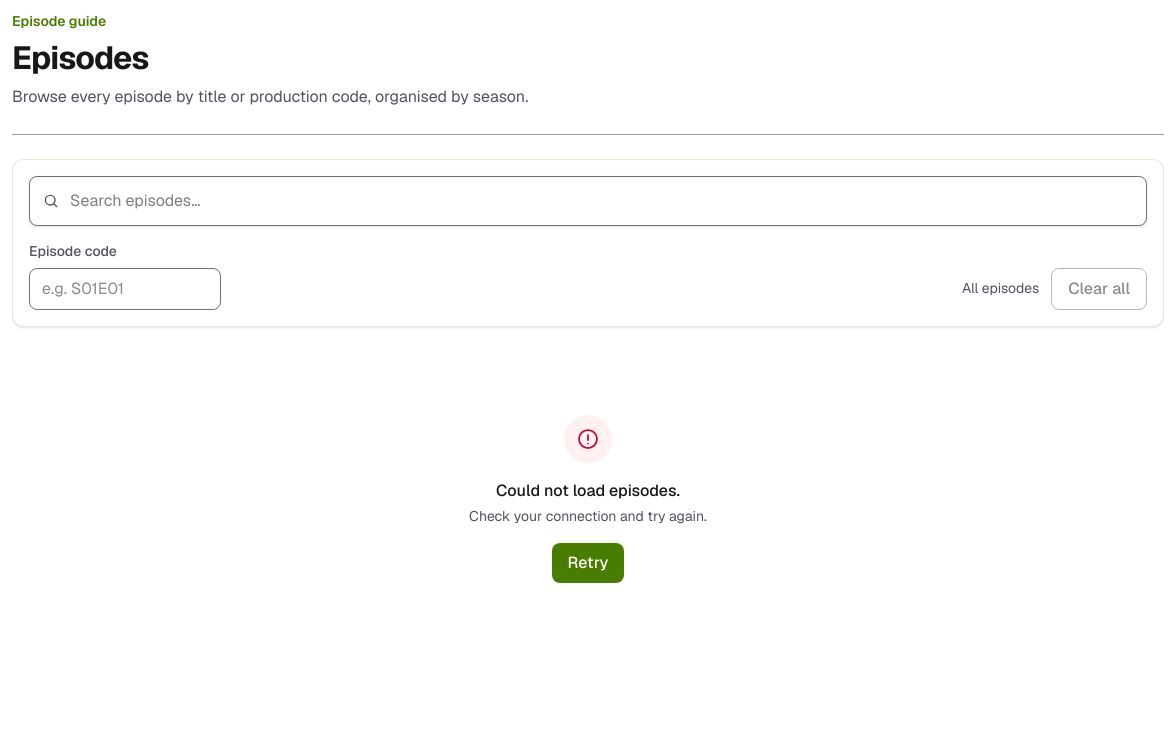
Scenario: EpisodeBrowser (integration: filter bar + results + GraphQL layer) › shows an error state and recovers via Retry
This screenshot has width=1176, height=732.
Expected: the text "Could not load episodes." is shown, 496,480 -> 680,501
Click the button "Retry": point(588, 563) 552,543 -> 624,583
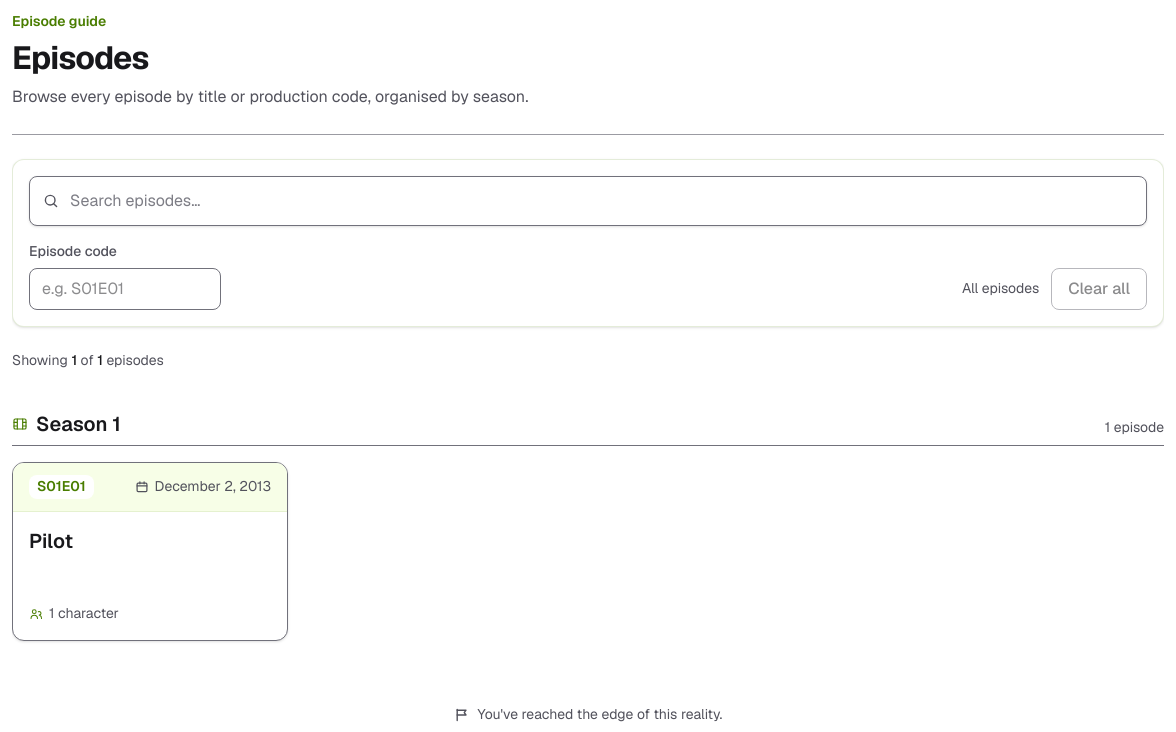
Now the heading "Pilot" is shown, box 29,528 -> 73,554
